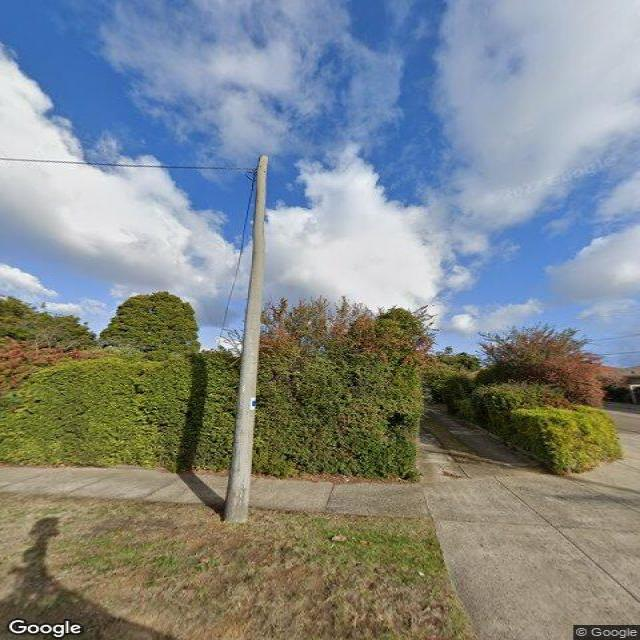timber-pole: (225, 153, 269, 520)
